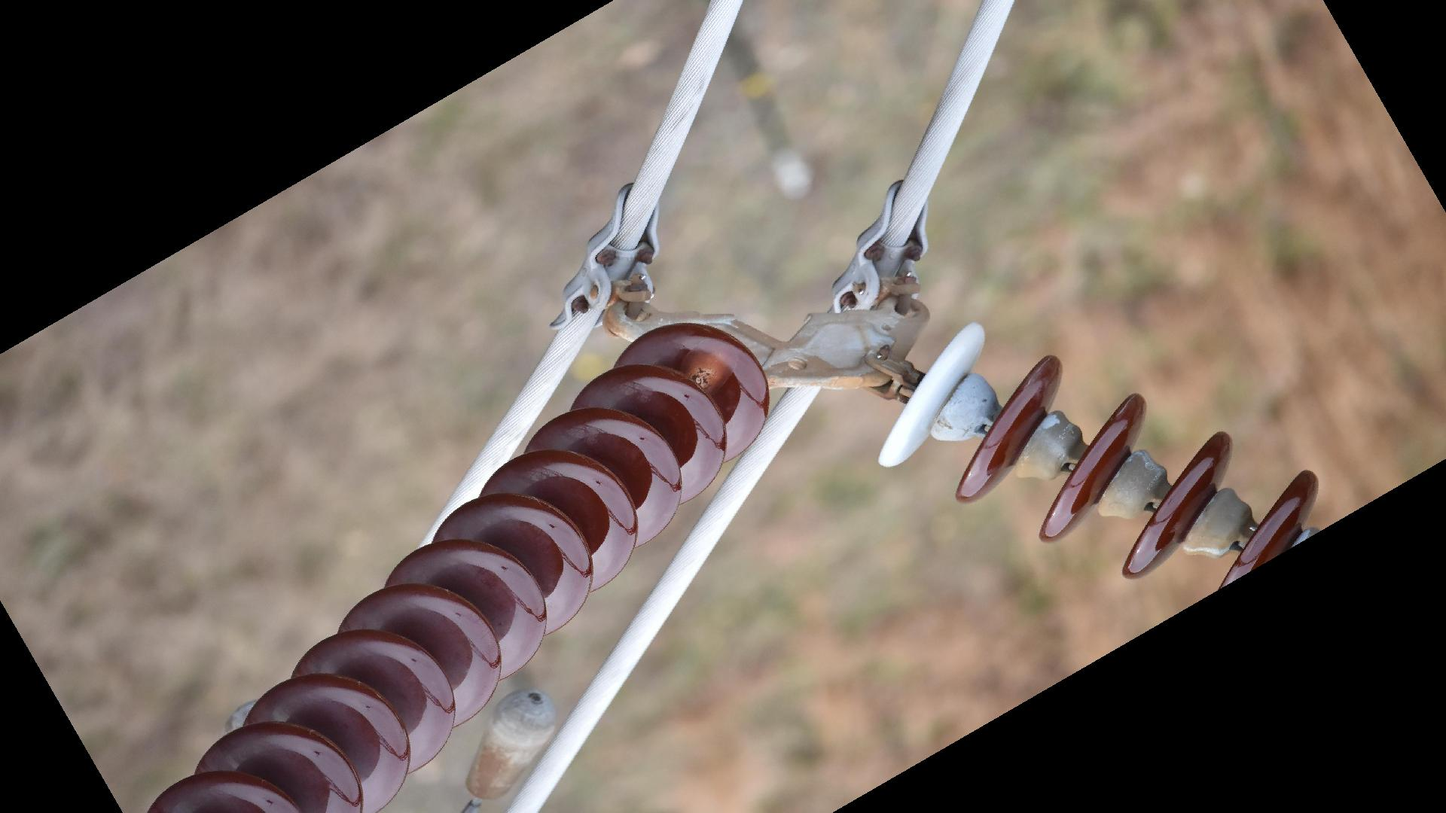insulator: (142, 319, 777, 813), (868, 315, 1326, 606)
insulator_flashover: (685, 347, 731, 390)
